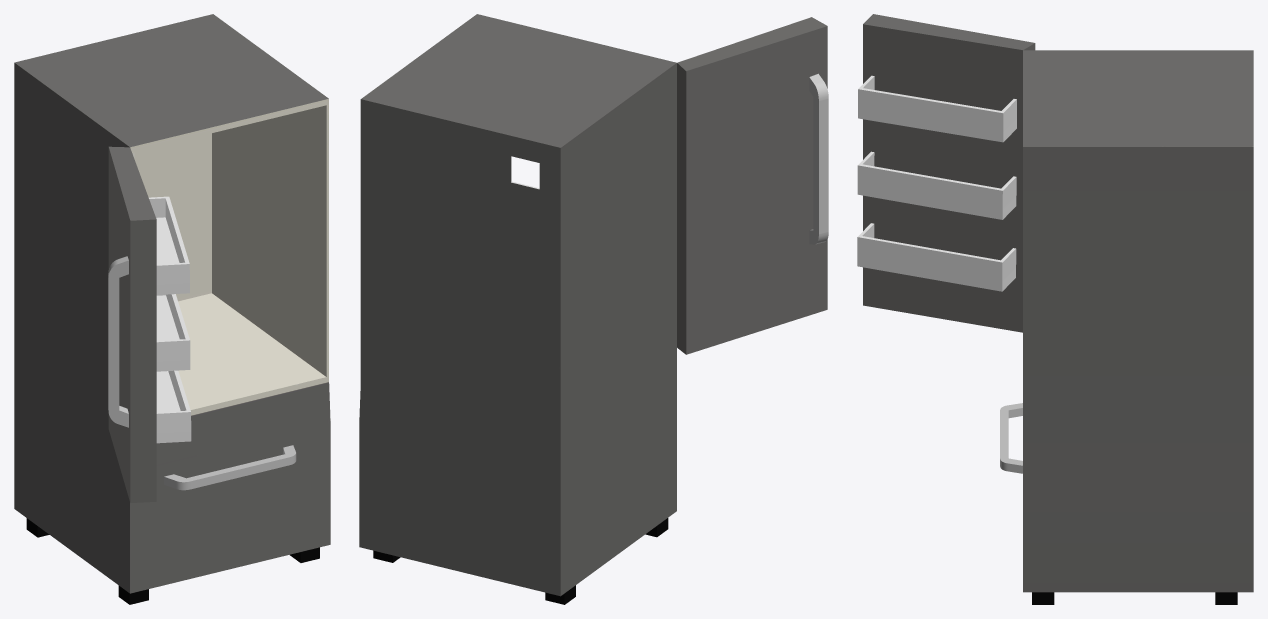
Rendered from Fridge Main 2 Holes for Vents.fbx.
3 views of the same model, side by side, from view 1: azimuth 30°, elevation 25°; view 2: azimuth 150°, elevation 25°; view 3: azimuth 270°, elevation 25° (orthographic).
Visible parts, largest first — view 1: Fridge_Base_Closed_with_holes; view 2: Fridge_Base_Closed_with_holes; view 3: Fridge_Base_Closed_with_holes.
Part boxes in pixels (bbox=[...]): Fridge_Base_Closed_with_holes: bbox=[14, 14, 330, 604]; Fridge_Base_Closed_with_holes: bbox=[359, 14, 828, 604]; Fridge_Base_Closed_with_holes: bbox=[857, 14, 1253, 604].
Bounding box in the file's own units: 10.43 × 16.05 × 12.54.
1 material, 1 textured.
